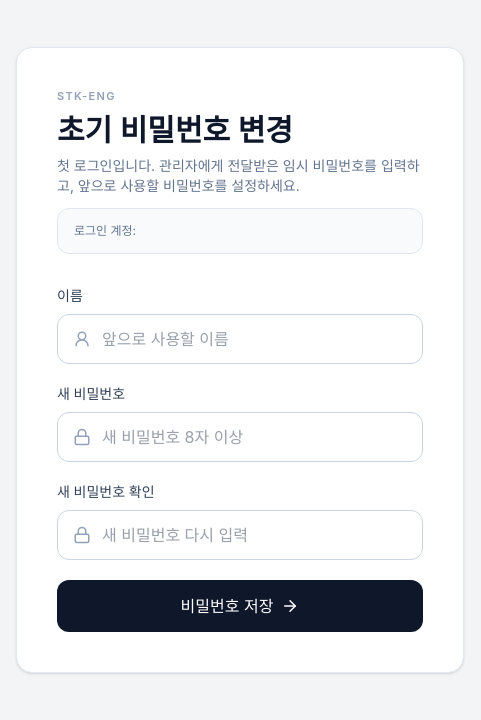
Test: SetupPassword › shows error for mismatched passwords
In the field with placeholder "앞으로 사용할 이름": (240, 339) [57,314,423,364], type "홍길동"
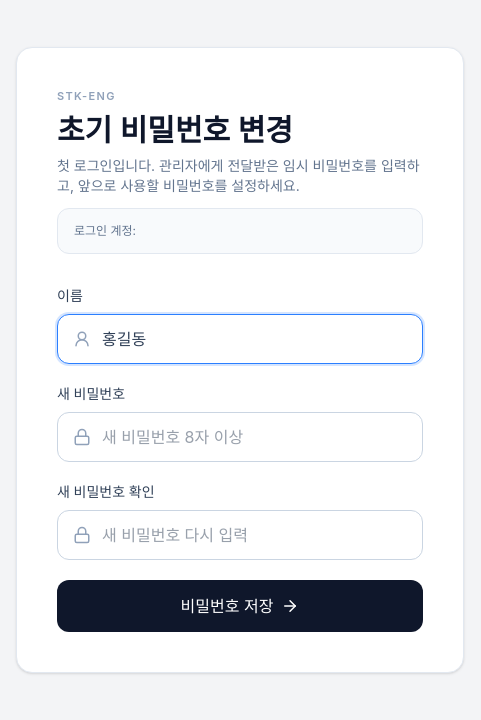
In the password field with placeholder "새 비밀번호 8자 이상": (240, 437) [57,412,423,462], type "password123"
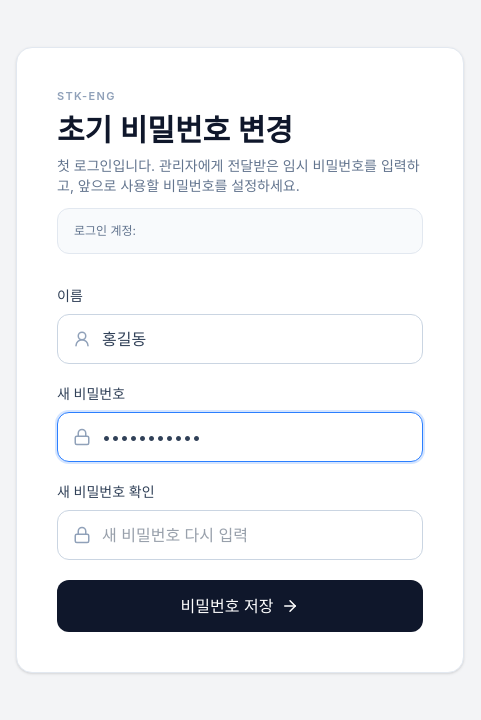
In the password field with placeholder "새 비밀번호 다시 입력": (240, 535) [57,510,423,560], type "password321"
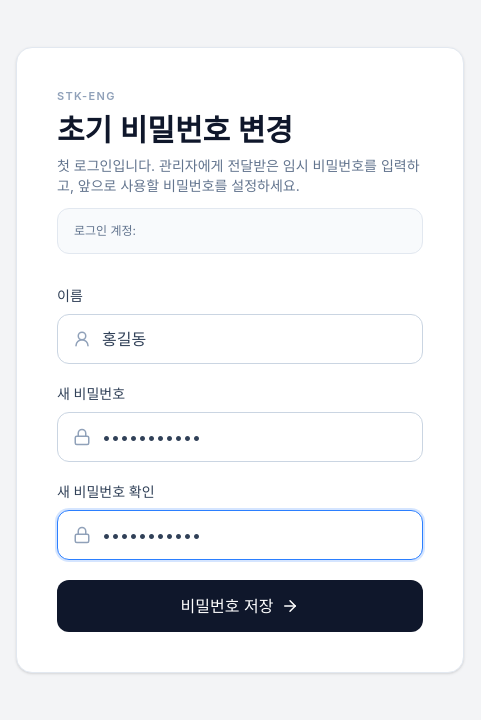
Click the button "비밀번호 저장": (240, 606) [57,580,423,632]
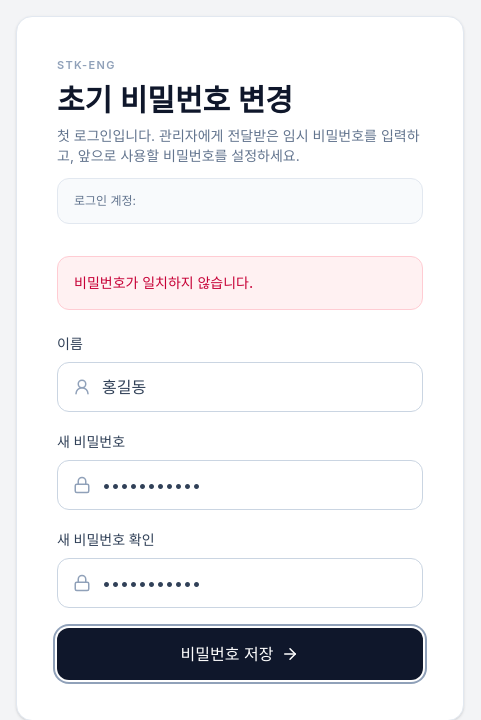
expect the text "비밀번호가 일치하지 않습니다." is shown: met, box [57,256,423,310]
